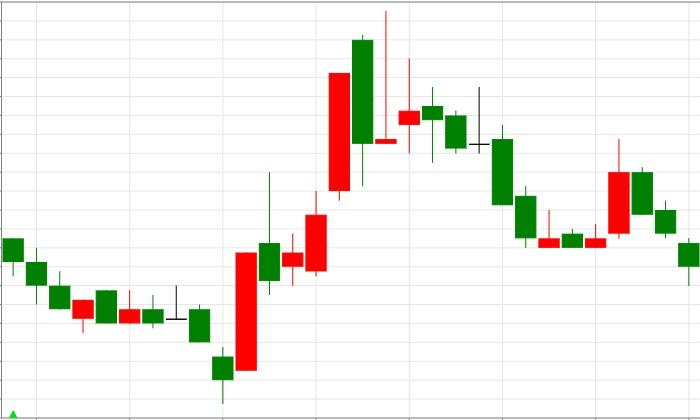three_black_crows_fall: (538, 138, 700, 286)
